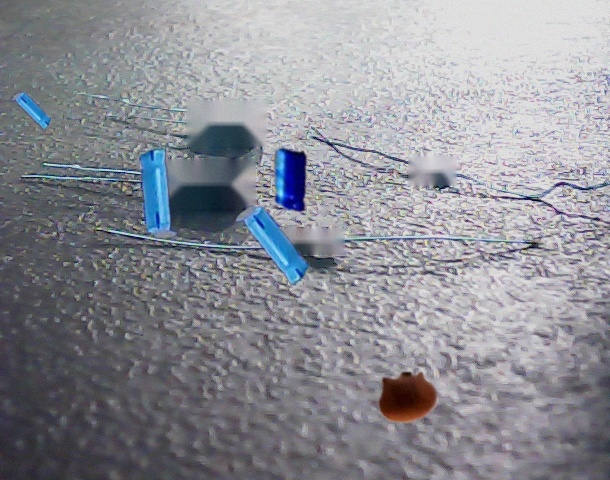capacitor: (235, 206, 310, 285), (139, 148, 178, 238), (378, 371, 438, 423), (273, 148, 307, 213), (11, 92, 51, 130)
